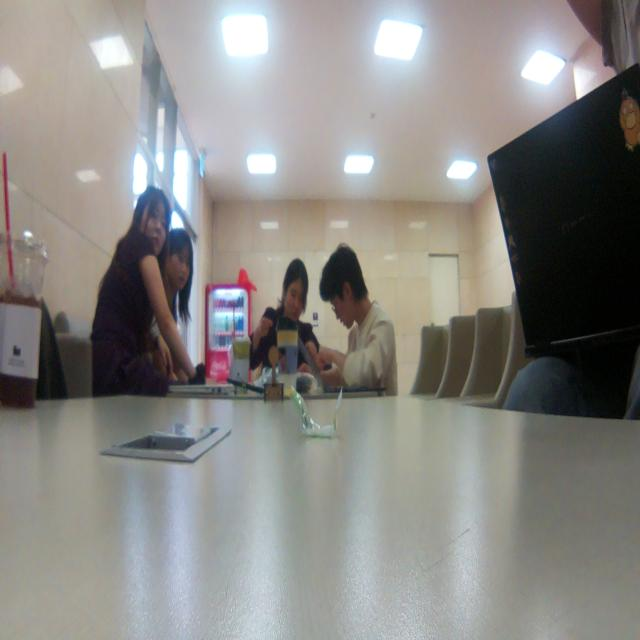target: (264, 345, 284, 402)
